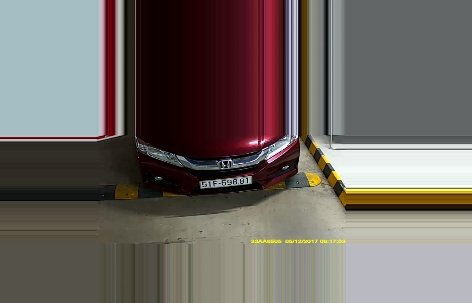plate: (198, 174, 251, 189)
